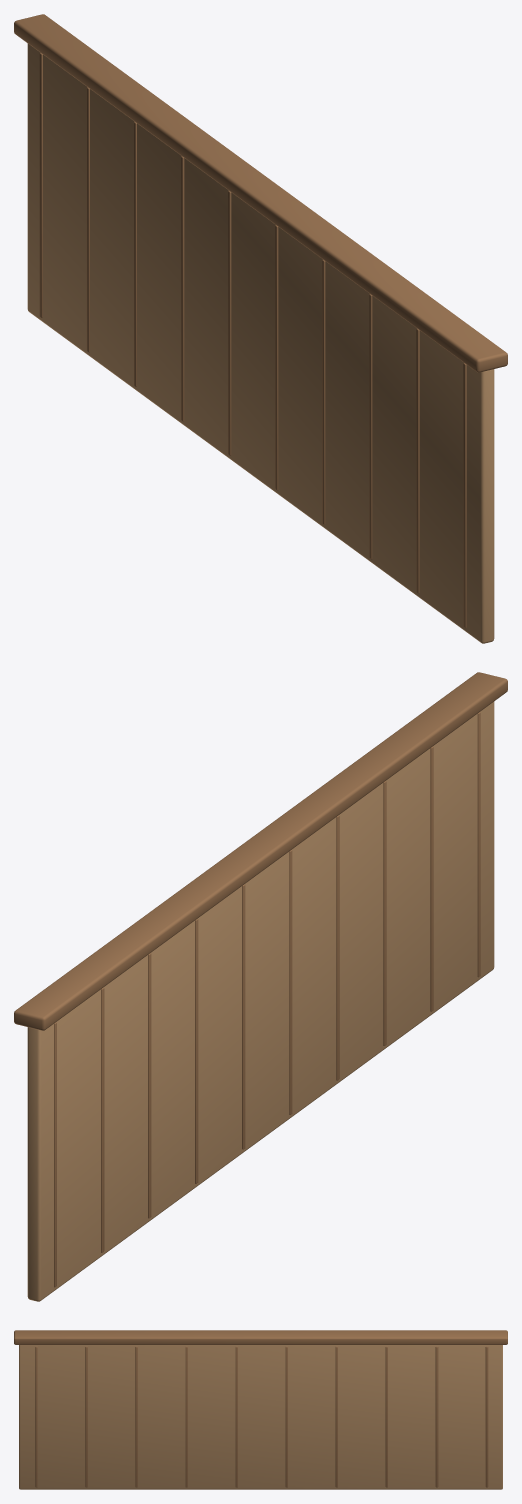
File: partition.glb
3 views of the same model, one above another, from view 1: azimuth 30°, elevation 25°; view 2: azimuth 150°, elevation 25°; view 3: azimuth 270°, elevation 25° (orthographic). The views are drawn at different scales.
Parts seen in each view (by area): view 1: panel, cap, bead8, bead3, bead4, bead6, bead9, bead0, bead1, bead5, bead7, bead2; view 2: panel, cap, bead2, bead4, bead5, bead8, bead3, bead6, bead7, bead9, bead1, bead0; view 3: panel, cap, bead0, bead1, bead2, bead3, bead4, bead5, bead6, bead7, bead8, bead9.
Part boxes in pixels (x1=…): panel: x1=27, y1=43, x2=494, y2=643; cap: x1=14, y1=14, x2=507, y2=372; bead8: x1=416, y1=328, x2=419, y2=593; bead3: x1=181, y1=156, x2=184, y2=421; bead4: x1=228, y1=190, x2=231, y2=455; bead6: x1=322, y1=259, x2=325, y2=524; bead9: x1=463, y1=363, x2=466, y2=628; bead0: x1=39, y1=53, x2=42, y2=317; bead1: x1=86, y1=87, x2=89, y2=352; bead5: x1=275, y1=225, x2=278, y2=490; bead7: x1=369, y1=294, x2=372, y2=559; bead2: x1=134, y1=121, x2=136, y2=386; panel: x1=27, y1=701, x2=494, y2=1301; cap: x1=14, y1=672, x2=507, y2=1030; bead2: x1=148, y1=953, x2=151, y2=1218; bead4: x1=242, y1=884, x2=245, y2=1149; bead5: x1=289, y1=849, x2=292, y2=1114; bead8: x1=430, y1=746, x2=433, y2=1011; bead3: x1=195, y1=918, x2=198, y2=1183; bead6: x1=336, y1=815, x2=339, y2=1080; bead7: x1=383, y1=781, x2=386, y2=1045; bead9: x1=477, y1=712, x2=480, y2=977; bead1: x1=101, y1=987, x2=104, y2=1252; bead0: x1=54, y1=1022, x2=56, y2=1287; panel: x1=19, y1=1345, x2=502, y2=1489; cap: x1=14, y1=1330, x2=507, y2=1344; bead0: x1=485, y1=1346, x2=488, y2=1487; bead1: x1=435, y1=1346, x2=438, y2=1487; bead2: x1=385, y1=1346, x2=387, y2=1487; bead3: x1=335, y1=1346, x2=337, y2=1487; bead4: x1=285, y1=1346, x2=287, y2=1487; bead5: x1=235, y1=1346, x2=237, y2=1487; bead6: x1=185, y1=1346, x2=187, y2=1487; bead7: x1=135, y1=1346, x2=137, y2=1487; bead8: x1=85, y1=1346, x2=87, y2=1487; bead9: x1=35, y1=1346, x2=37, y2=1487.
Size of the model in its own units: 0.12 by 1.05 by 3.06.
